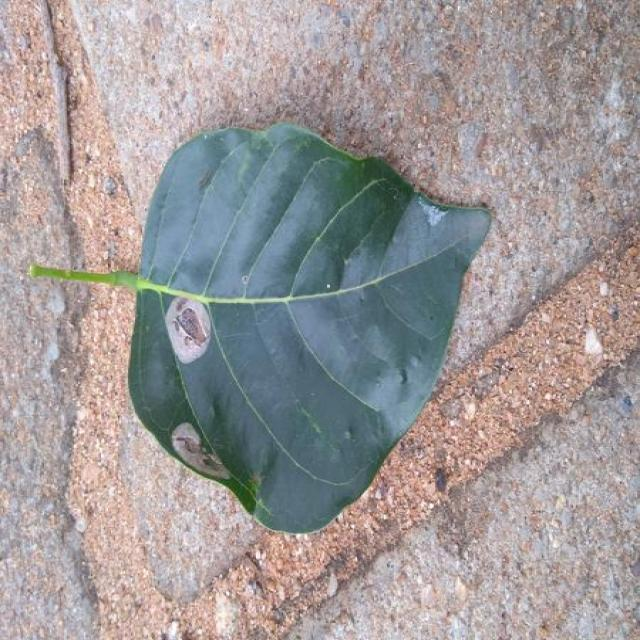honge: (68, 124, 490, 532)
powdery mildew: (172, 424, 230, 478), (165, 298, 210, 363)
